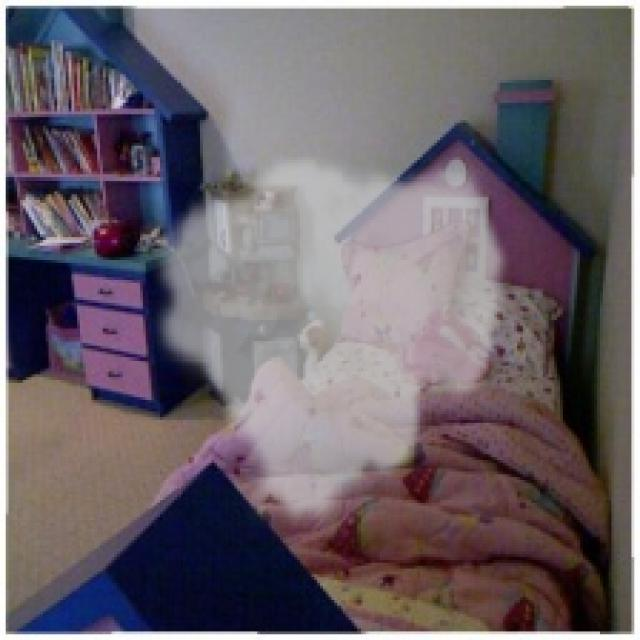smoke: (146, 152, 511, 532)
